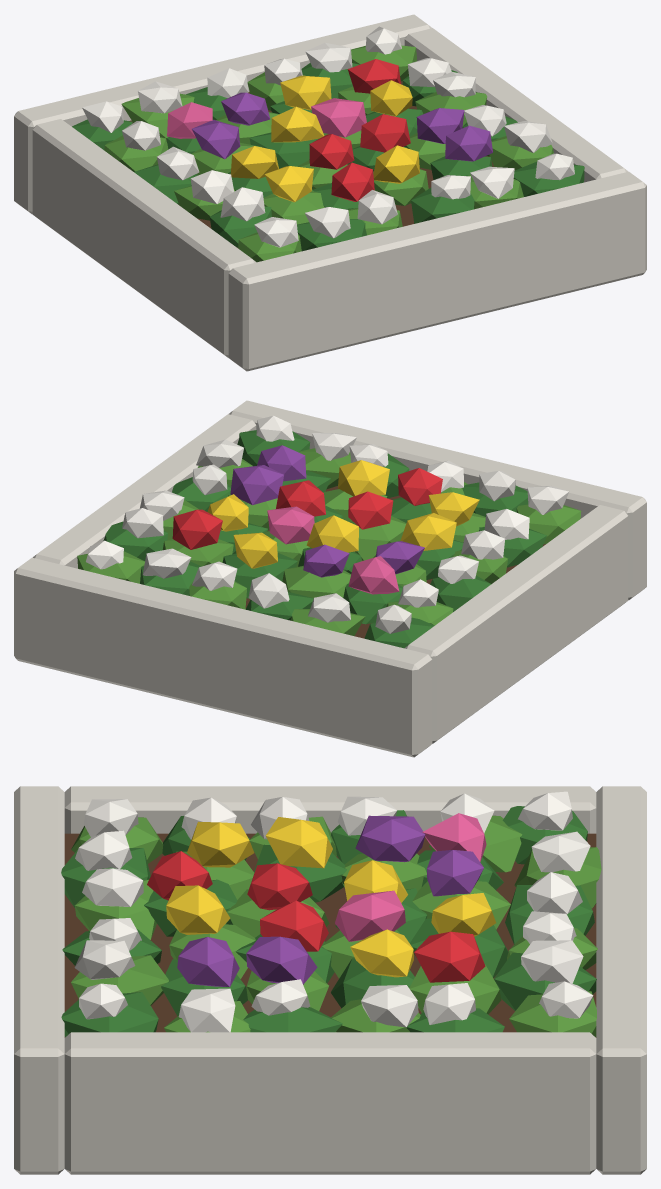
The model's file is canteiro_flores.glb.
3 renders of one model, top to bottom at view 1: azimuth 30°, elevation 25°; view 2: azimuth 150°, elevation 25°; view 3: azimuth 270°, elevation 25°, orthographic. The views are drawn at different scales.
Visible parts, largest first — view 1: canteiro_flores; view 2: canteiro_flores; view 3: canteiro_flores.
Part boxes in pixels (left/top/right/bottom): canteiro_flores: left=14, top=14, right=646, bottom=371; canteiro_flores: left=14, top=400, right=646, bottom=757; canteiro_flores: left=14, top=786, right=646, bottom=1174.
Bounding box in the file's own units: 1 × 0.2986 × 1.
